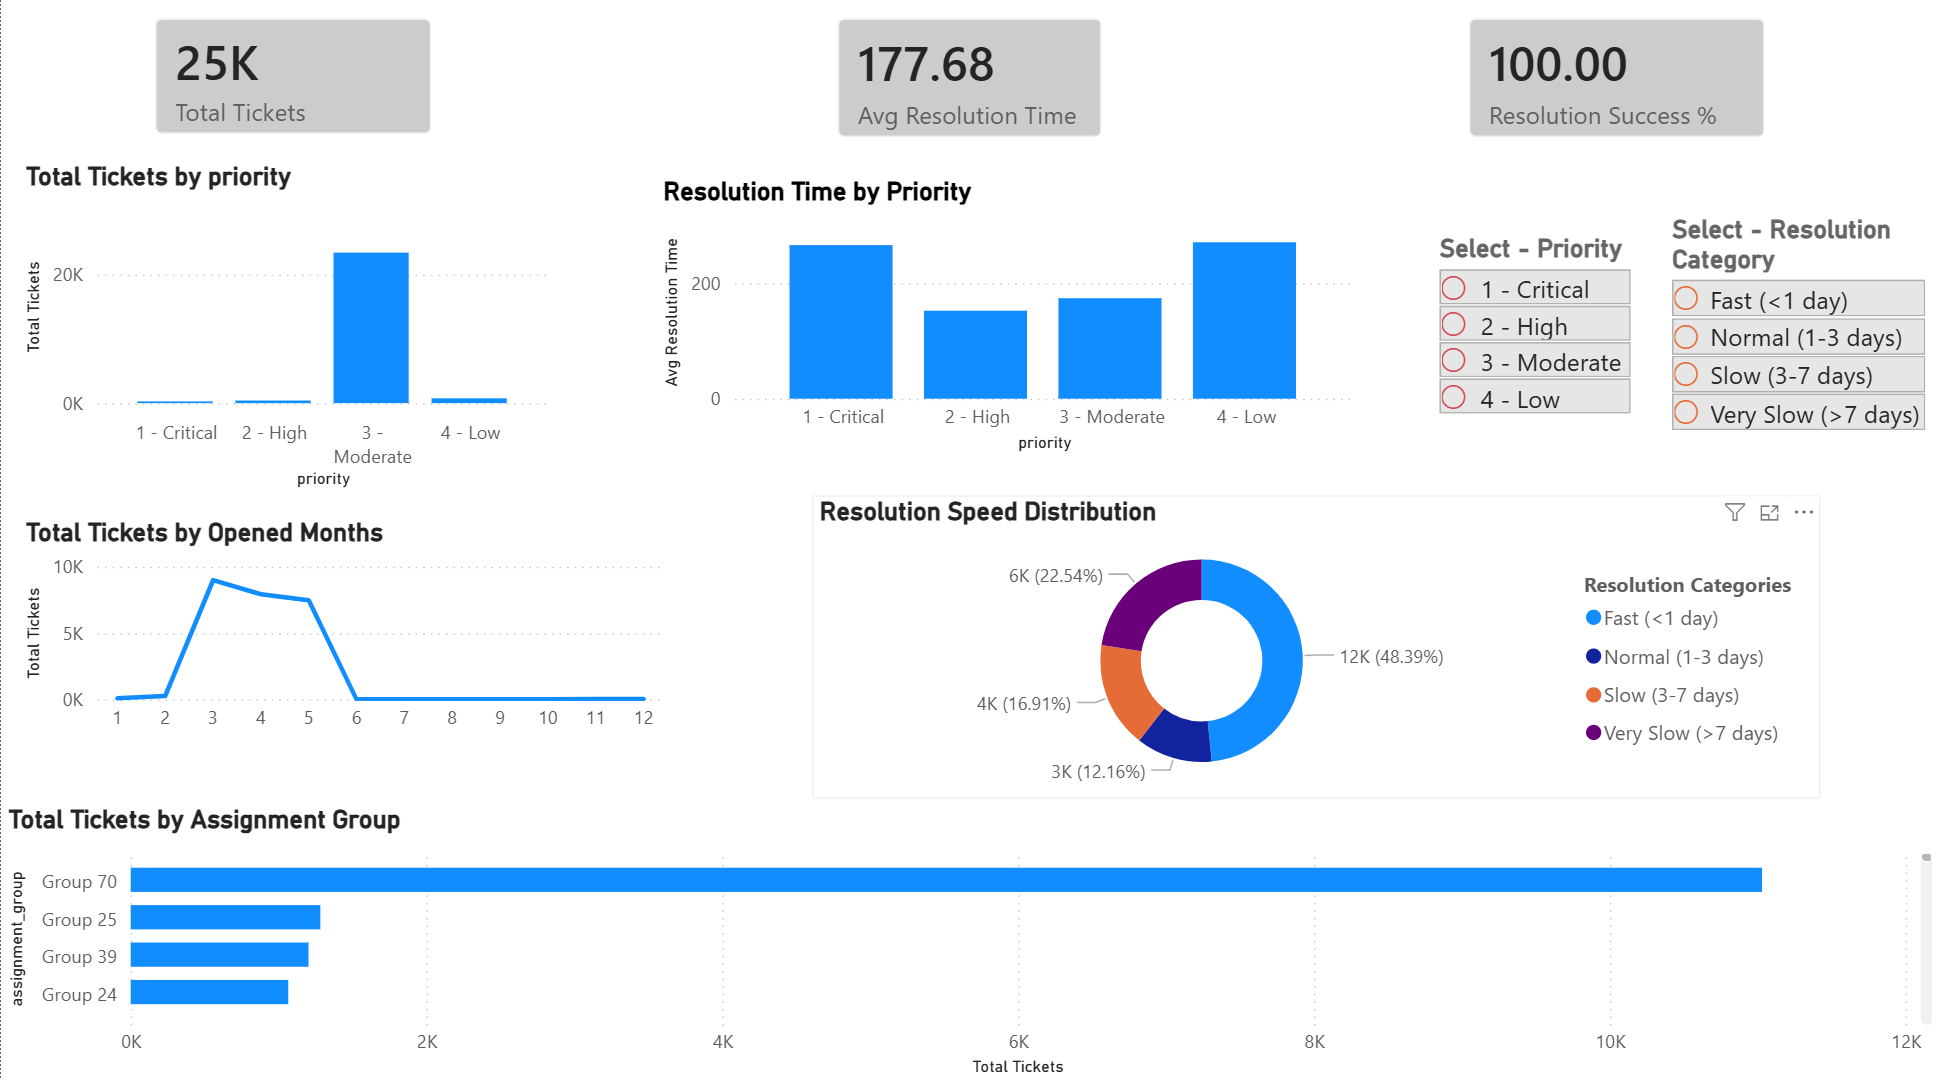

Layout of this report page (visuals, bound fields, positions):
{"tool":"powerbi","page":{"name":"Page 1","canvas":[1280,720],"ordinal":0},"visuals":[{"type":"cardVisual","fields":{"Data":["SupportTickets.Total Tickets"]},"box":[85,0,216.7,110.8],"z":0},{"type":"cardVisual","fields":{"Data":["SupportTickets.Avg Resolution Time"]},"box":[535.6,0,208.1,112],"z":1000},{"type":"cardVisual","fields":{"Data":["SupportTickets.Resolution Success %"]},"box":[951.7,0,229,112],"z":2000},{"type":"clusteredColumnChart","fields":{"Y":["SupportTickets.Total Tickets"],"Category":["SupportTickets.priority"]},"box":[11.9,110.6,355.5,221.1],"z":3000},{"type":"clusteredColumnChart","title":"Resolution Time by Priority","fields":{"Category":["SupportTickets.priority"],"Y":["SupportTickets.Avg Resolution Time"]},"box":[432.2,120.6,466,187.3],"z":4000},{"type":"donutChart","title":"Resolution Speed Distribution","fields":{"Category":["SupportTickets.resolution_category"],"Y":["SupportTickets.Total Tickets"]},"box":[535.5,331.7,665.2,199.2],"z":5000},{"type":"lineChart","title":"Total Tickets by Opened Months","fields":{"Category":["SupportTickets.opened_month"],"Y":["SupportTickets.Total Tickets"]},"box":[11.9,345.4,430.4,150.8],"z":6000},{"type":"listSlicer","title":"Select - Priority","fields":{"Values":["SupportTickets.priority"]},"box":[944.8,158.1,136.2,126.1],"z":7000},{"type":"listSlicer","title":"Select - Resolution Category","fields":{"Values":["SupportTickets.resolution_category"]},"box":[1098.3,146.2,177.3,149.9],"z":8000},{"type":"clusteredBarChart","title":"Total Tickets by Assignment Group","fields":{"Category":["SupportTickets.assignment_group"],"Y":["SupportTickets.Total Tickets"]},"box":[0,535.5,1280.2,184.6],"z":9000}]}

Visuals, with their boxes in screenshot pixels (x1, y1, x2, y2), scaled from the page's 1280x720 canvas onto the 1937x1080 screenshot:
cardVisual - SupportTickets.Total Tickets: bbox(129, 0, 457, 166)
cardVisual - SupportTickets.Avg Resolution Time: bbox(811, 0, 1125, 168)
cardVisual - SupportTickets.Resolution Success %: bbox(1440, 0, 1787, 168)
clusteredColumnChart - SupportTickets.Total Tickets x SupportTickets.priority: bbox(18, 166, 556, 498)
"Resolution Time by Priority" clusteredColumnChart: bbox(654, 181, 1359, 462)
"Resolution Speed Distribution" donutChart: bbox(810, 498, 1817, 796)
"Total Tickets by Opened Months" lineChart: bbox(18, 518, 669, 744)
"Select - Priority" listSlicer: bbox(1430, 237, 1636, 426)
"Select - Resolution Category" listSlicer: bbox(1662, 219, 1930, 444)
"Total Tickets by Assignment Group" clusteredBarChart: bbox(0, 803, 1936, 1079)
